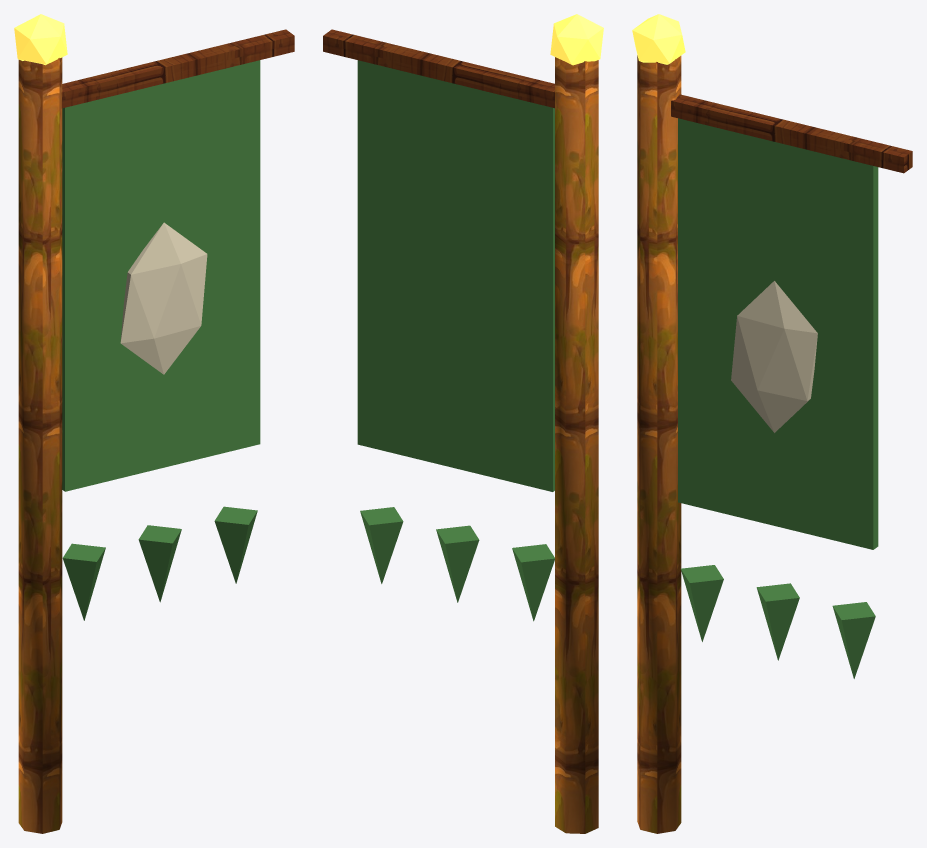
Rendered from banner_post.glb.
3 renders of one model, left to right at view 1: azimuth 30°, elevation 25°; view 2: azimuth 150°, elevation 25°; view 3: azimuth 330°, elevation 25°, orthographic.
Parts seen in each view (by area): view 1: banner_post; view 2: banner_post; view 3: banner_post.
Part boxes in pixels (bbox=[...]): banner_post: bbox=[14, 14, 294, 833]; banner_post: bbox=[323, 14, 603, 833]; banner_post: bbox=[632, 14, 912, 833].
Size of the model in its own units: 1.26 by 3.57 by 0.2042.
Materials: 5 (2 with a texture image).
